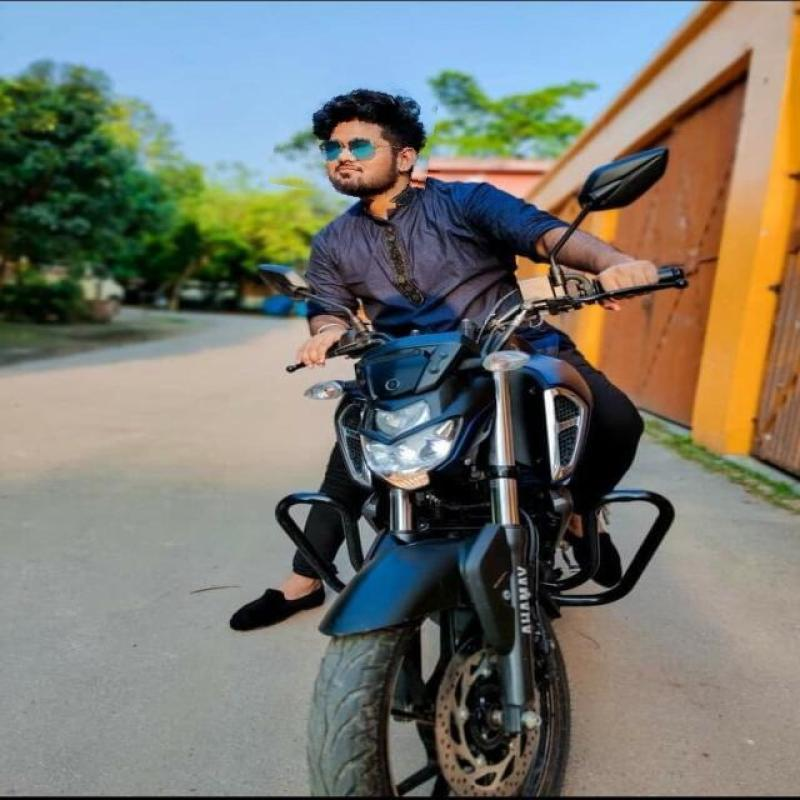nohelmet: (272, 75, 436, 201)
